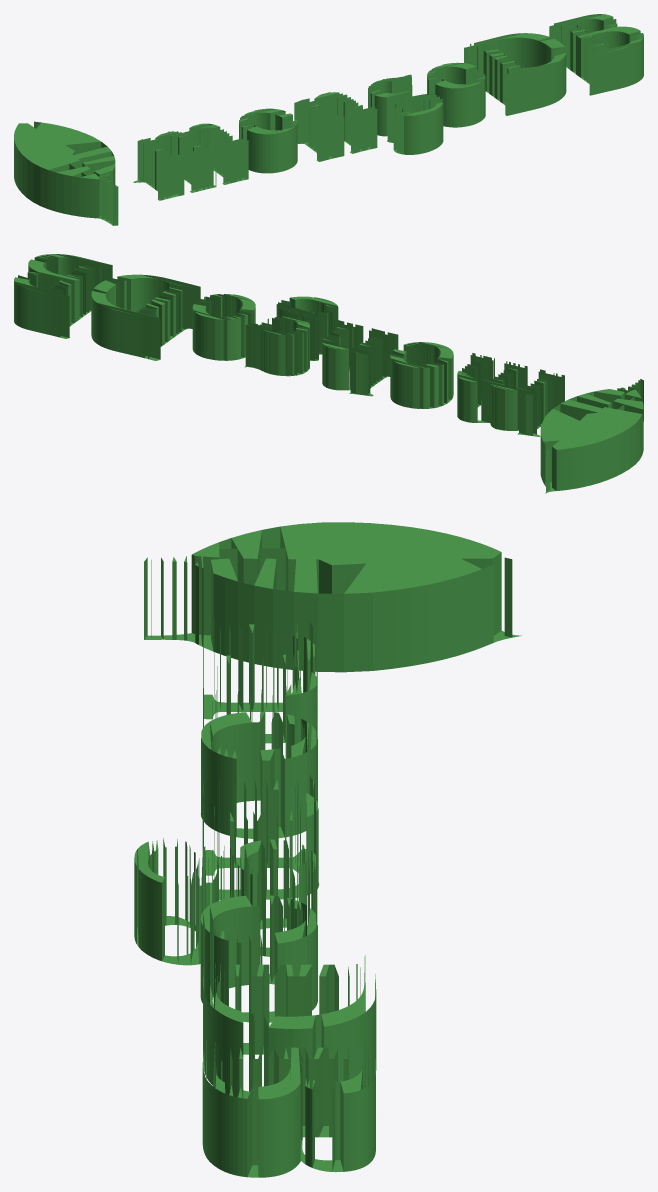
File: mongo3.glb
3 views of the same model, one above another, from view 1: azimuth 30°, elevation 25°; view 2: azimuth 150°, elevation 25°; view 3: azimuth 270°, elevation 25° (orthographic). The views are drawn at different scales.
Visible parts, largest first — view 1: Curve.001, Curve, Curve.006, Curve.004, Curve.003; view 2: Curve.001, Curve, Curve.006, Curve.004, Curve.003; view 3: Curve.001, Curve, Curve.004, Curve.006, Curve.003.
Part boxes in pixels (bbox=[...]): Curve.001: bbox=[133, 62, 485, 200]; Curve: bbox=[464, 14, 643, 115]; Curve.006: bbox=[14, 123, 99, 218]; Curve.004: bbox=[34, 121, 115, 185]; Curve.003: bbox=[36, 136, 118, 225]; Curve.001: bbox=[192, 294, 564, 436]; Curve: bbox=[14, 254, 200, 360]; Curve.006: bbox=[545, 389, 643, 493]; Curve.004: bbox=[540, 387, 625, 492]; Curve.003: bbox=[570, 379, 643, 437]; Curve.001: bbox=[134, 620, 319, 1022]; Curve: bbox=[202, 955, 376, 1177]; Curve.004: bbox=[195, 557, 521, 672]; Curve.006: bbox=[191, 522, 518, 636]; Curve.003: bbox=[144, 548, 434, 646].
Size of the model in its own units: 0.136 by 0.00861 by 0.0387.
